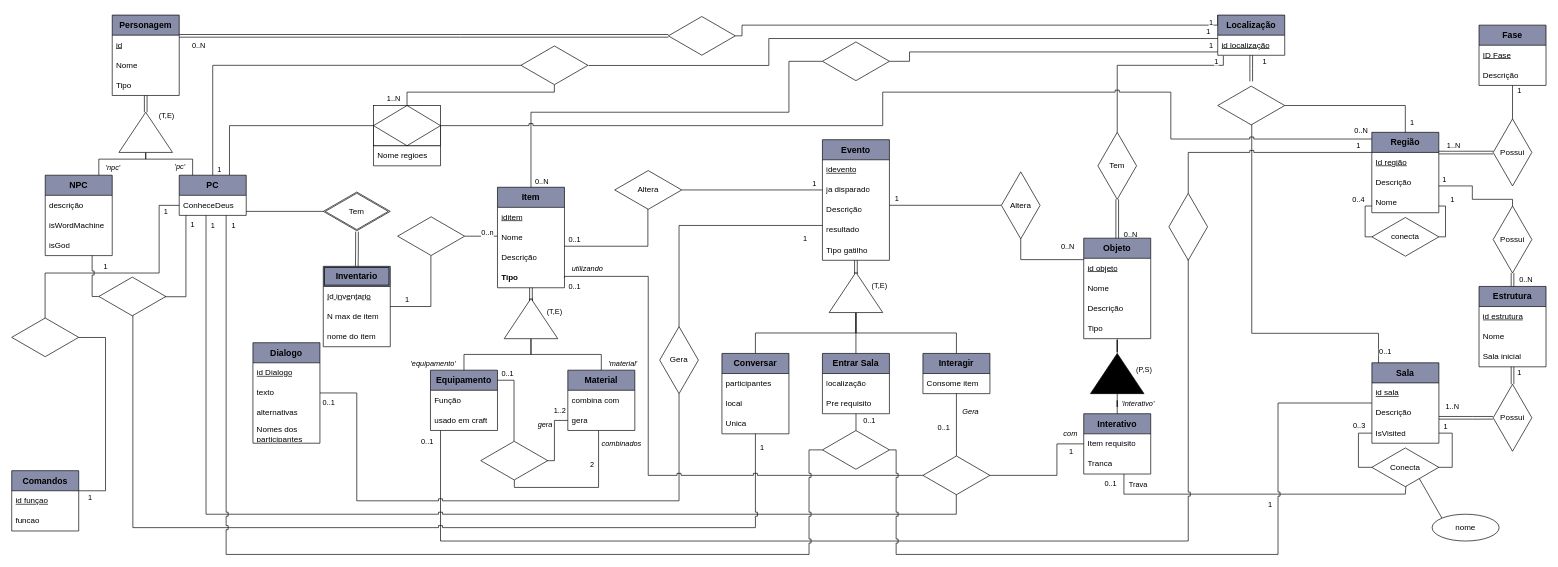
The diagram is 1558 pixels wide and 567 high, and some of its shapes have lost their labels. The centre of each missing label's shape, as x and y in pixels:
"Aponta" belongs at pixel 1251 105.
"Combina" belongs at pixel 514 460.
"Controla" belongs at pixel 45 337.
"Conversa" belongs at pixel 132 296.
"Entra 1ª vez" belongs at pixel 855 449.
"Está" belongs at pixel 701 35.
"Guarda" belongs at pixel 431 235.
"Interage" belongs at pixel 956 475.
"Podem Ter" belongs at pixel 855 61.
"Regiões Visitadas" belongs at pixel 407 125.
"Viagem Rapida" belongs at pixel 554 65.
"É pre requisito" belongs at pixel 1187 226.
